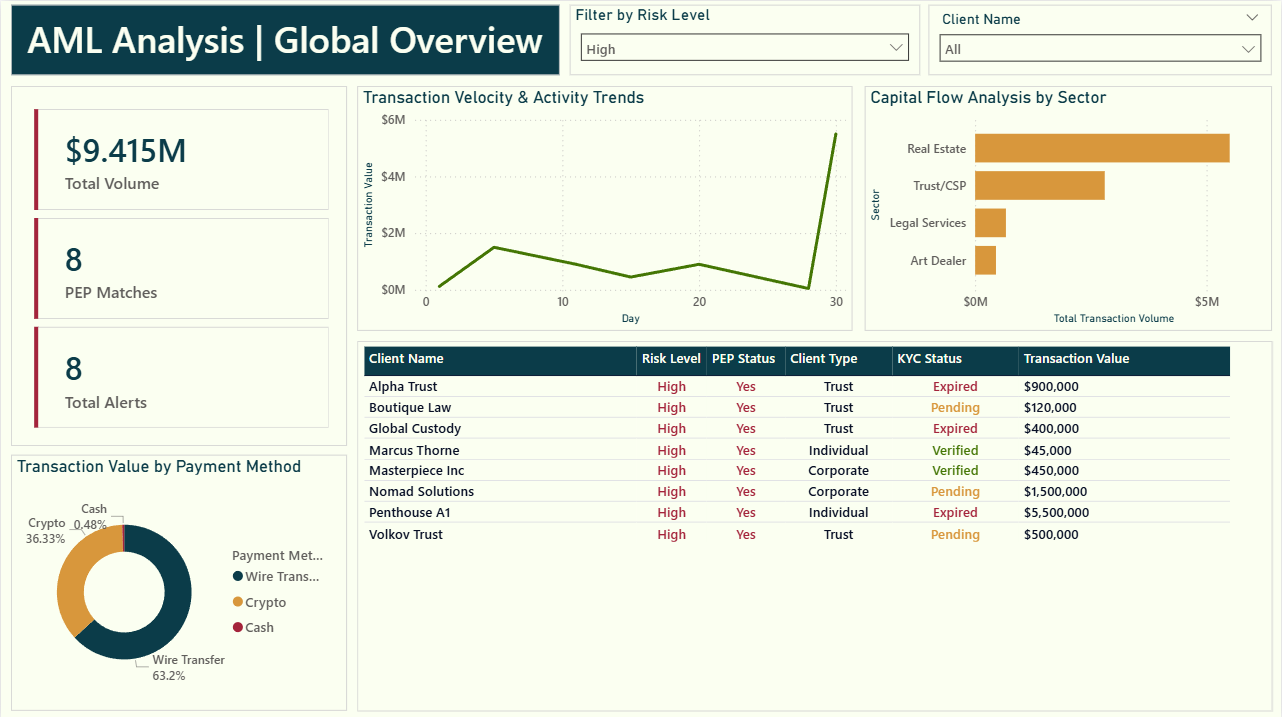

Layout of this report page (visuals, bound fields, positions):
{"tool":"powerbi","page":{"name":"Page 1","canvas":[1280,720],"ordinal":0},"visuals":[{"type":"cardVisual","fields":{"Data":["Sum(in.Transaction_Value)","CountNonNull(in.Is_PEP)","CountNonNull(in.Country_Risk)"]},"box":[10,85,336.2,360],"z":0},{"type":"clusteredBarChart","title":"Capital Flow Analysis by Sector","fields":{"Category":["in.Sector"],"Y":["Sum(in.Transaction_Value)"]},"box":[863.8,85,407.5,245],"z":1000},{"type":"donutChart","fields":{"Category":["in.Payment_Method"],"Y":["Sum(in.Transaction_Value)"]},"box":[10,453.8,336.2,256.2],"z":2000},{"type":"tableEx","fields":{"Values":["in.Client_Name","in.RiskLevel_Status","in.Is_PEP","in.Client_Type","in.KYC_Status","Sum(in.Transaction_Value)"]},"box":[356.2,340,915,370],"z":3000},{"type":"slicer","title":"Filter by Risk Level","fields":{"Values":["in.RiskLevel_Status"]},"box":[569.3,3.7,350,70],"z":4000},{"type":"card","fields":{"Values":["_Measure.Title"]},"box":[10,3.7,548.5,70],"z":5000},{"type":"slicer","title":"Client Name","fields":{"Values":["in.Client_Name"]},"box":[927.6,3.7,343.6,70],"z":6000},{"type":"lineChart","title":"Transaction Velocity & Activity Trends","fields":{"Category":["in.Last_Review_Date.Variation.Date Hierarchy.Day"],"Y":["Sum(in.Transaction_Value)"]},"box":[356.2,85,495,245],"z":7000}]}

Visuals, with their boxes in screenshot pixels (x1, y1, x2, y2), scaled from the page's 1280x720 canvas onto the 1282x717 screenshot:
cardVisual - Sum(in.Transaction_Value) x CountNonNull(in.Is_PEP): bbox=(10, 85, 347, 443)
"Capital Flow Analysis by Sector" clusteredBarChart: bbox=(865, 85, 1273, 329)
donutChart - in.Payment_Method x Sum(in.Transaction_Value): bbox=(10, 452, 347, 707)
tableEx - in.Client_Name x in.RiskLevel_Status: bbox=(357, 339, 1273, 707)
"Filter by Risk Level" slicer: bbox=(570, 4, 921, 73)
card - _Measure.Title: bbox=(10, 4, 559, 73)
"Client Name" slicer: bbox=(929, 4, 1273, 73)
"Transaction Velocity & Activity Trends" lineChart: bbox=(357, 85, 853, 329)
